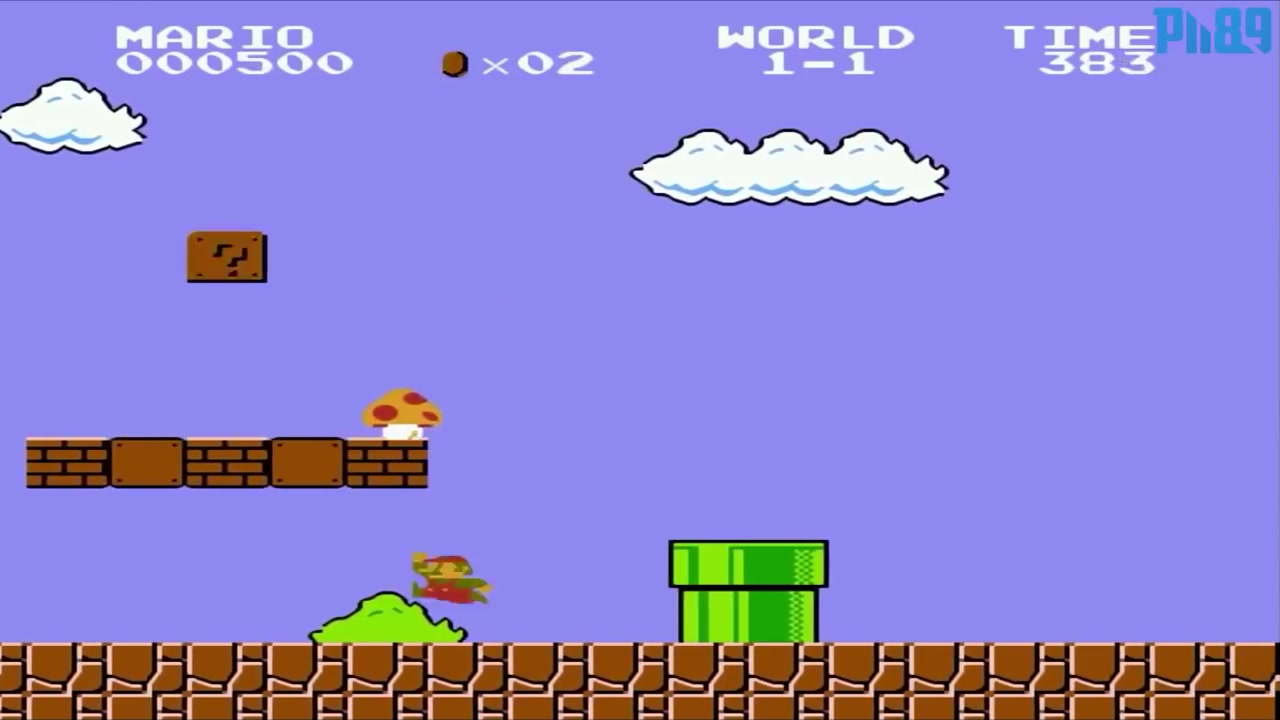mario: (400, 539, 499, 617)
